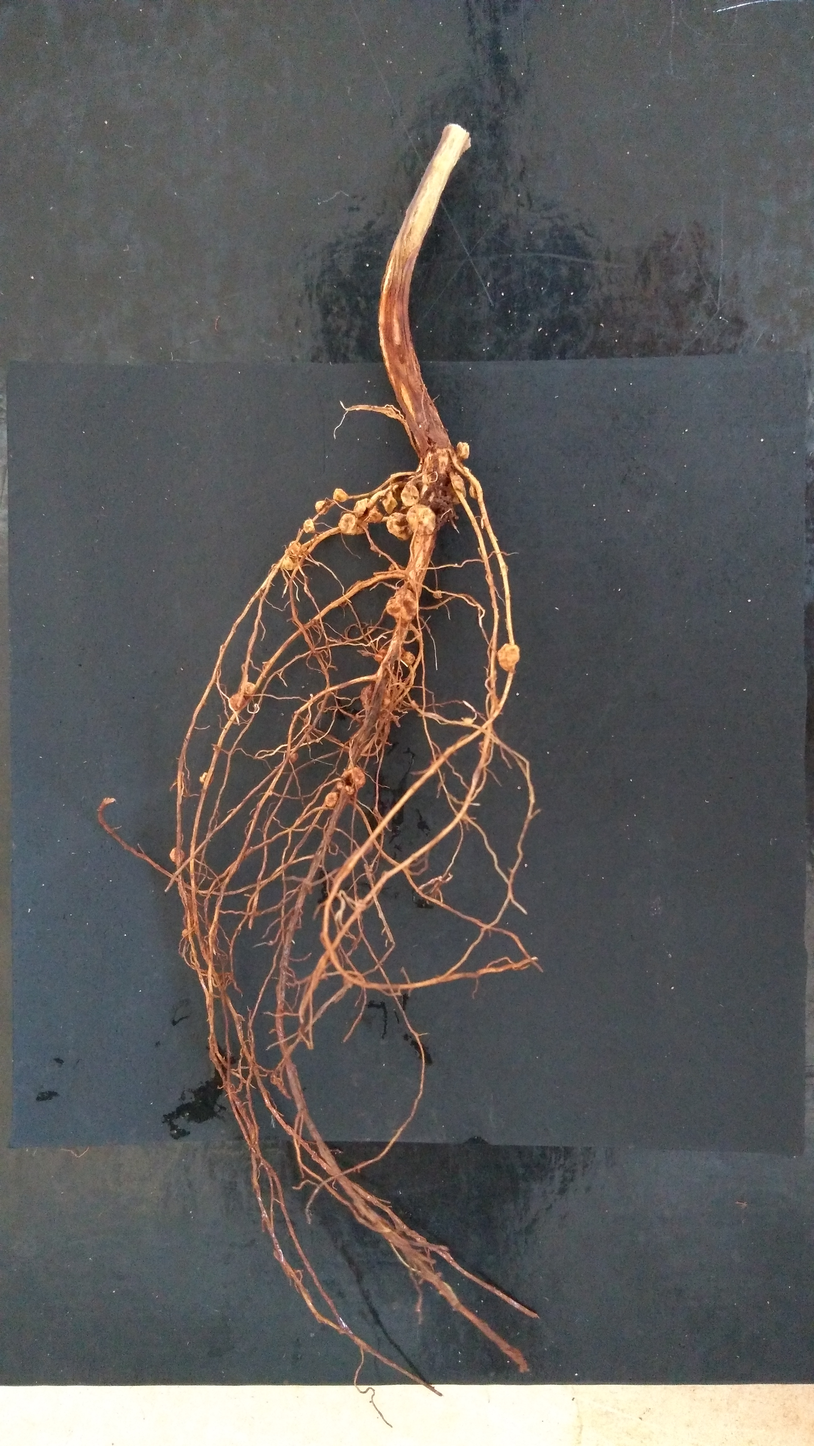nodule: (386, 588, 418, 622), (422, 448, 449, 483), (406, 504, 436, 534), (361, 682, 390, 711), (385, 511, 413, 540), (337, 766, 365, 794), (353, 498, 382, 523), (383, 485, 407, 514), (338, 513, 368, 535), (497, 643, 520, 671), (447, 475, 466, 504), (400, 481, 419, 506), (390, 472, 417, 487), (469, 475, 483, 499), (324, 791, 341, 810), (228, 692, 247, 709), (282, 553, 300, 570), (286, 541, 307, 555), (456, 441, 470, 459), (169, 847, 185, 862), (241, 681, 255, 698), (400, 651, 415, 665), (333, 488, 348, 502), (389, 563, 407, 574), (199, 772, 214, 785), (303, 519, 315, 534), (315, 501, 328, 514), (374, 649, 387, 661), (289, 750, 298, 763), (181, 928, 189, 937), (433, 590, 442, 598), (463, 717, 473, 724), (411, 701, 419, 709)
